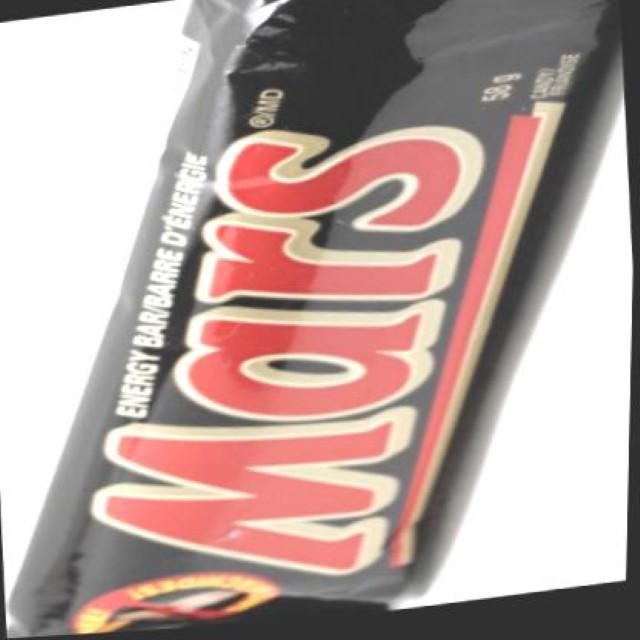mars_chocolate: (165, 21, 515, 640)
